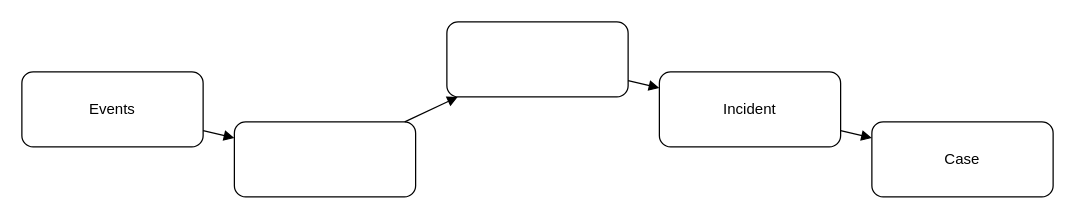
Some shapes in this 1075 by 219 pixel diagram are drawn without their labels. The centre of each missing label's shape, as x and y in pixels:
"Rule" belongs at (324,159).
"Tag" belongs at (537,59).
